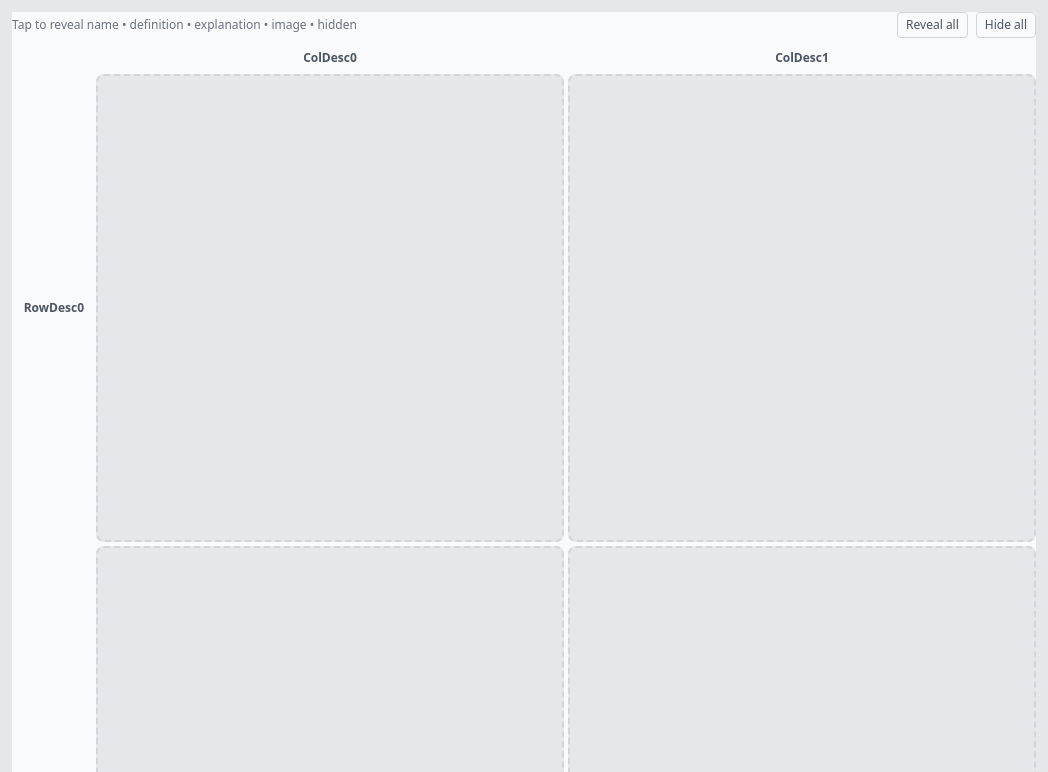
MatrixRevealView — diagonal cell reveal cycle › third tap hides the cell completely
The image size is (1048, 772).
Step 1. Click the 1st button titled "Tap to reveal" → (330, 308), box [96,74,564,542]
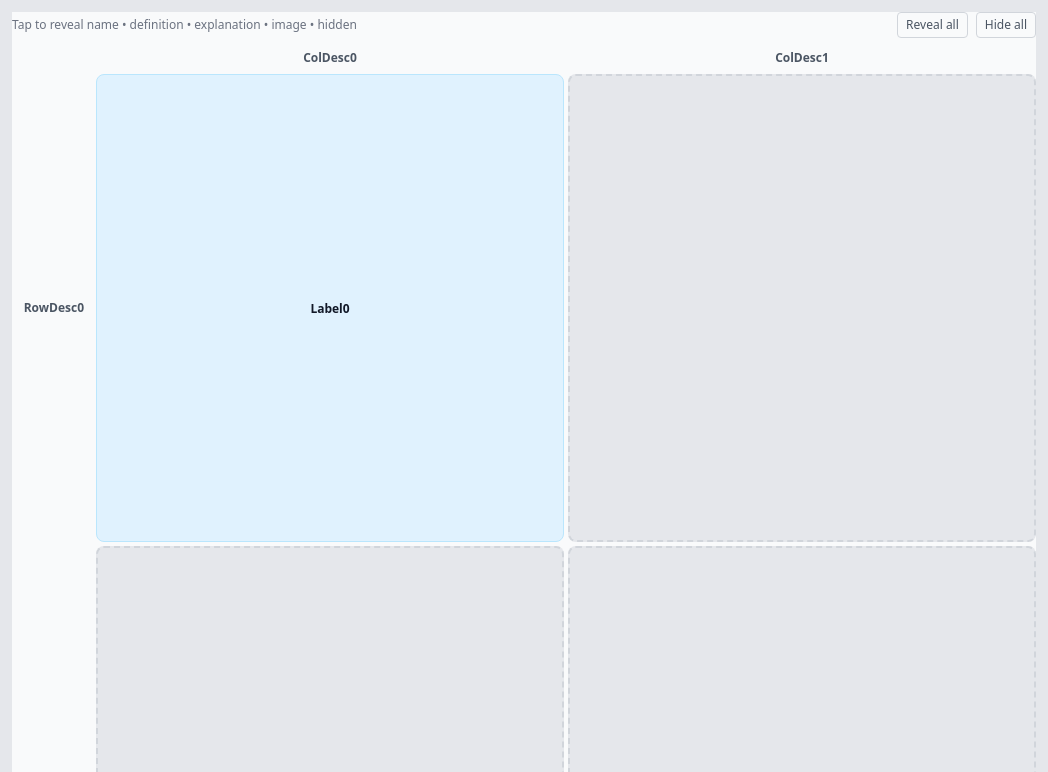
Step 2. Click the button "Label0" → (124, 308), box [96,74,564,542]
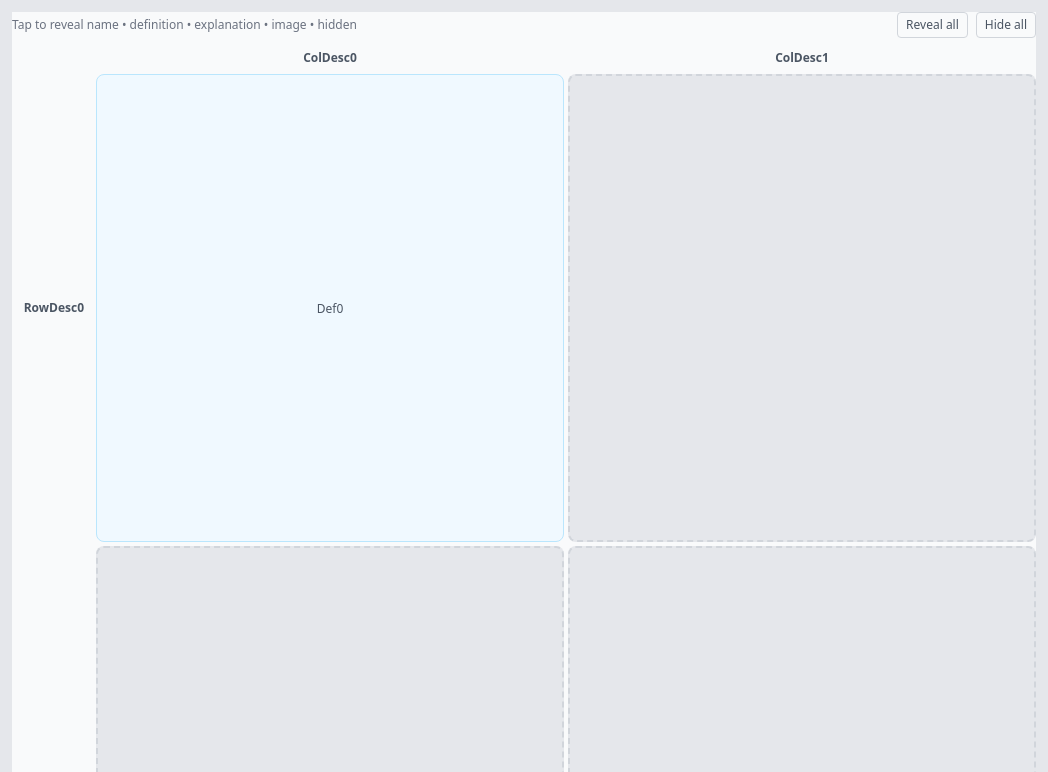
Step 3. Click the button "Def0" → (124, 308), box [96,74,564,542]
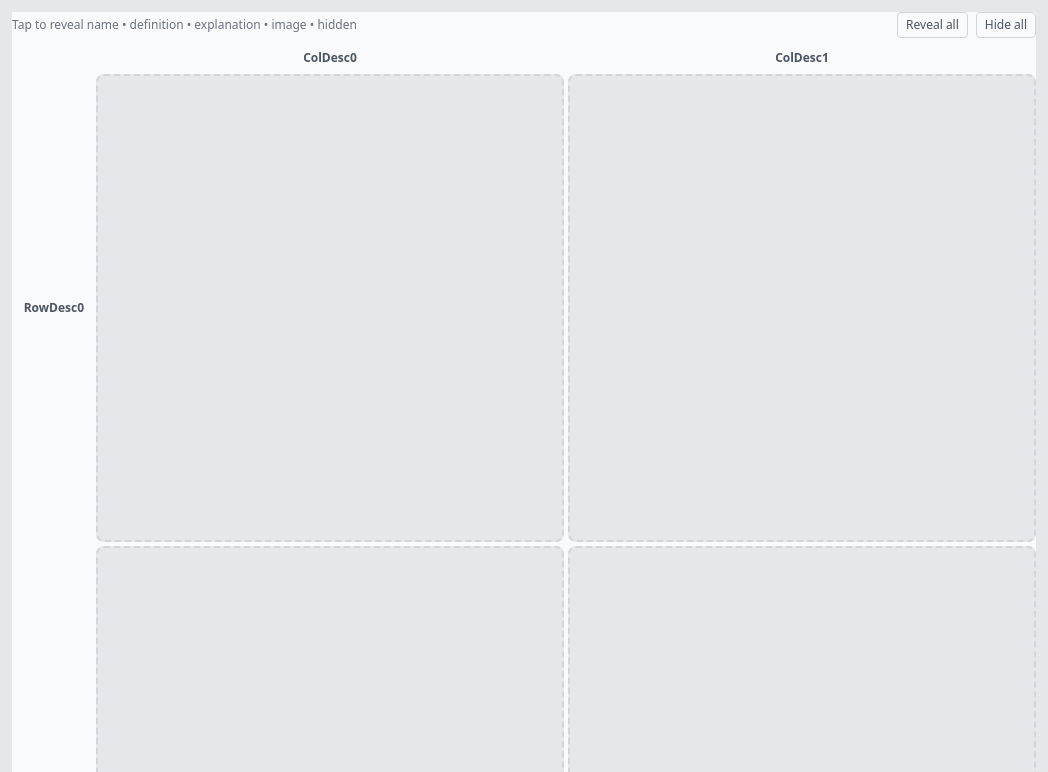
Expected: the text "Def0" is gone
